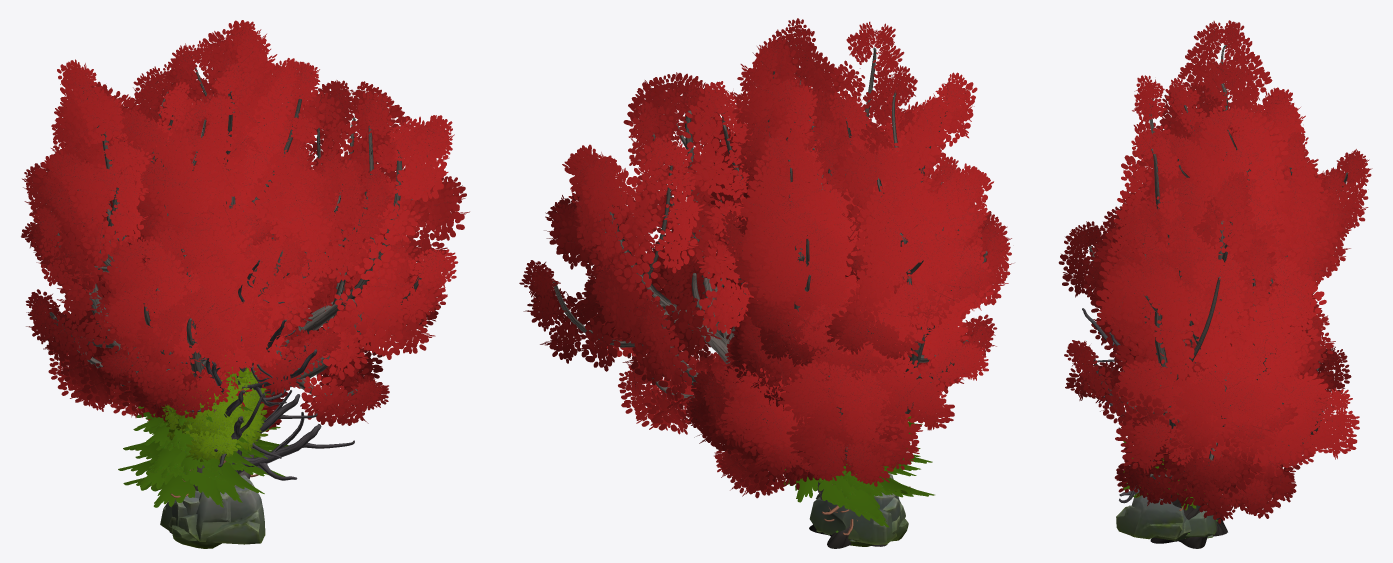
Rendered from nature.glb.
The picture shows the model from 3 angles, left to right: view 1: azimuth 30°, elevation 25°; view 2: azimuth 150°, elevation 25°; view 3: azimuth 270°, elevation 25°; orthographic projection. The views are drawn at different scales.
Visible parts, largest first — view 1: TwistedTree_2, TwistedTree_1, TwistedTree_3, TwistedTree_4, TwistedTree_5, DeadTree_2, Rock_Medium_3, Pine_2, Pine_5, Pine_4, CommonTree_3, CommonTree_2 (+4 smaller); view 2: TwistedTree_1, TwistedTree_2, TwistedTree_4, TwistedTree_3, TwistedTree_5, Rock_Medium_2, Pine_5, Pine_2; view 3: TwistedTree_1, TwistedTree_4, TwistedTree_2, TwistedTree_3, TwistedTree_5, Rock_Medium_3, Rock_Medium_2.
Part boxes in pixels (x1=…): TwistedTree_2: x1=21, y1=59, x2=320, y2=490; TwistedTree_1: x1=145, y1=60, x2=469, y2=533; TwistedTree_3: x1=48, y1=92, x2=394, y2=418; TwistedTree_4: x1=66, y1=20, x2=367, y2=433; TwistedTree_5: x1=91, y1=98, x2=345, y2=319; DeadTree_2: x1=169, y1=245, x2=354, y2=480; Rock_Medium_3: x1=172, y1=475, x2=265, y2=548; Pine_2: x1=123, y1=424, x2=272, y2=507; Pine_5: x1=118, y1=413, x2=288, y2=502; Pine_4: x1=123, y1=393, x2=270, y2=497; CommonTree_3: x1=169, y1=355, x2=266, y2=440; CommonTree_2: x1=161, y1=367, x2=267, y2=463; TwistedTree_1: x1=519, y1=72, x2=887, y2=548; TwistedTree_2: x1=721, y1=18, x2=1013, y2=441; TwistedTree_4: x1=710, y1=37, x2=937, y2=489; TwistedTree_3: x1=683, y1=99, x2=1011, y2=498; TwistedTree_5: x1=709, y1=119, x2=924, y2=410; Rock_Medium_2: x1=809, y1=492, x2=896, y2=544; Pine_5: x1=785, y1=433, x2=925, y2=519; Pine_2: x1=779, y1=448, x2=934, y2=527; TwistedTree_1: x1=1064, y1=171, x2=1359, y2=548; TwistedTree_4: x1=1080, y1=84, x2=1372, y2=380; TwistedTree_2: x1=1100, y1=20, x2=1318, y2=376; TwistedTree_3: x1=1058, y1=163, x2=1351, y2=513; TwistedTree_5: x1=1111, y1=166, x2=1350, y2=379; Rock_Medium_3: x1=1116, y1=488, x2=1186, y2=539; Rock_Medium_2: x1=1186, y1=510, x2=1216, y2=537.
Bounding box in the file's own units: 17.96 × 19.08 × 12.13.
Materials: 12 (12 with a texture image).
